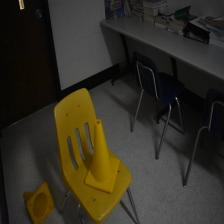cone: (84, 118, 120, 194), (23, 180, 55, 224)
